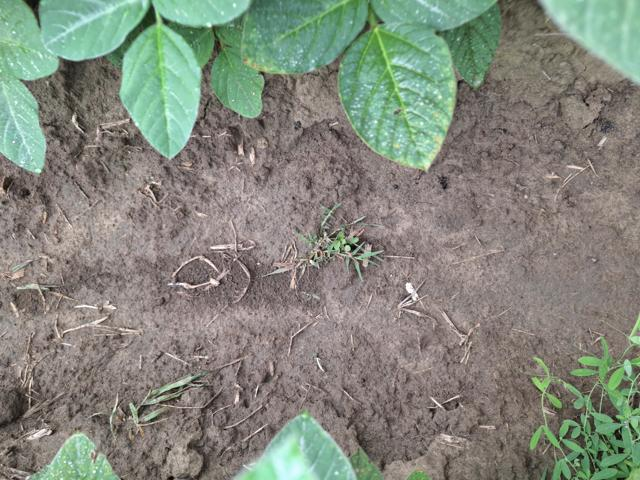bad weed: (488, 310, 640, 480), (259, 199, 405, 283)
